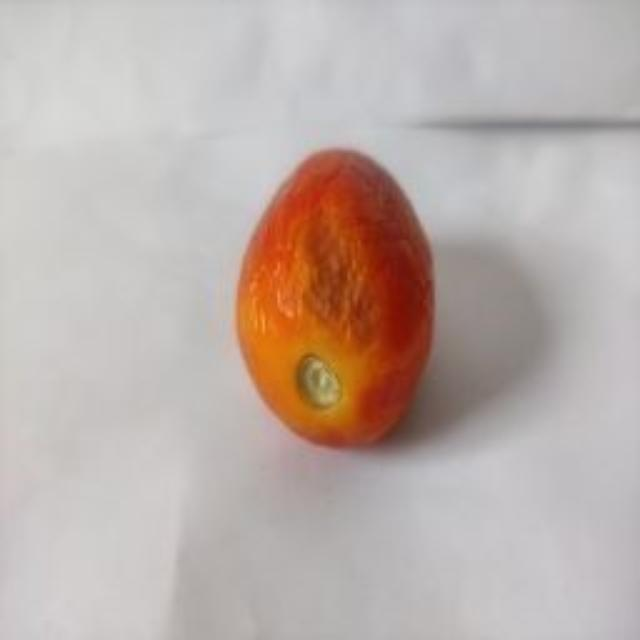defect: (229, 144, 439, 454)
